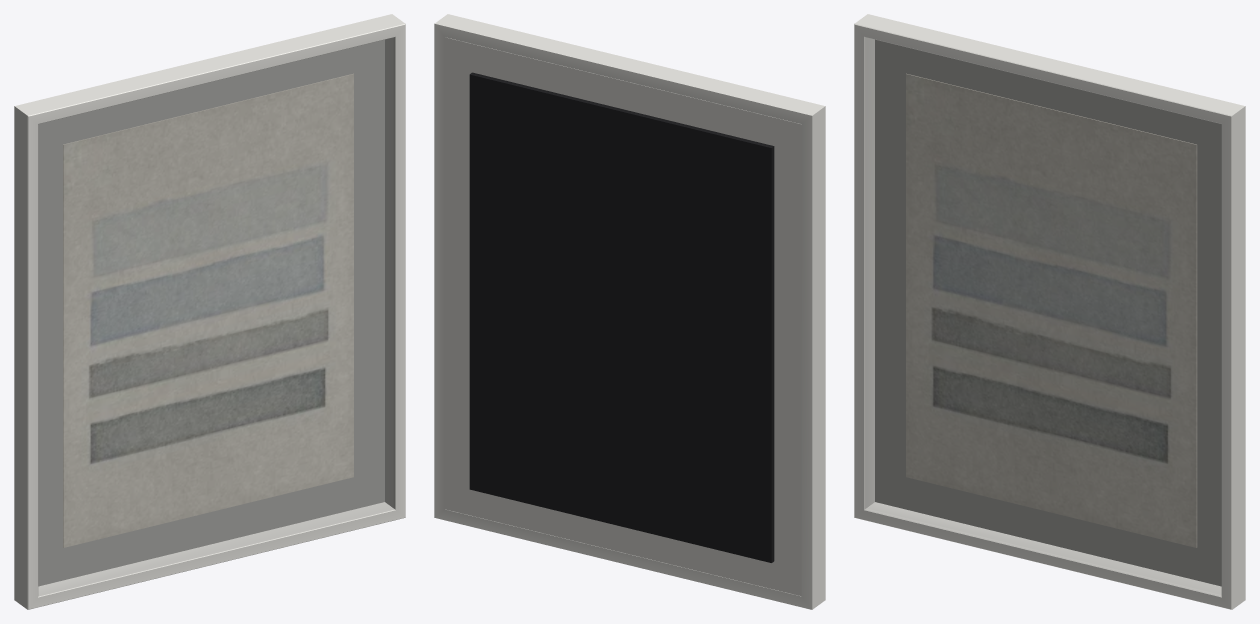
The model's file is art_wash_horizon.gltf.
3 views of the same model, side by side, from view 1: azimuth 30°, elevation 25°; view 2: azimuth 150°, elevation 25°; view 3: azimuth 330°, elevation 25° (orthographic).
Parts seen in each view (by area): view 1: Art_WashHorizon_Art, Art_WashHorizon_Backing, Art_WashHorizon_Frame; view 2: Art_WashHorizon_Spacer, Art_WashHorizon_Backing, Art_WashHorizon_Frame; view 3: Art_WashHorizon_Art, Art_WashHorizon_Backing, Art_WashHorizon_Frame.
Part boxes in pixels (<box>): Art_WashHorizon_Art: <box>63,73,353,547</box>; Art_WashHorizon_Backing: <box>38,39,384,586</box>; Art_WashHorizon_Frame: <box>14,14,405,609</box>; Art_WashHorizon_Spacer: <box>469,72,774,562</box>; Art_WashHorizon_Backing: <box>445,37,801,596</box>; Art_WashHorizon_Frame: <box>434,14,825,609</box>; Art_WashHorizon_Art: <box>906,73,1197,547</box>; Art_WashHorizon_Backing: <box>875,39,1221,586</box>; Art_WashHorizon_Frame: <box>854,14,1245,609</box>.
Bounding box in the file's own units: 0.8 × 1 × 0.06.
Materials: 4 (1 with a texture image).
